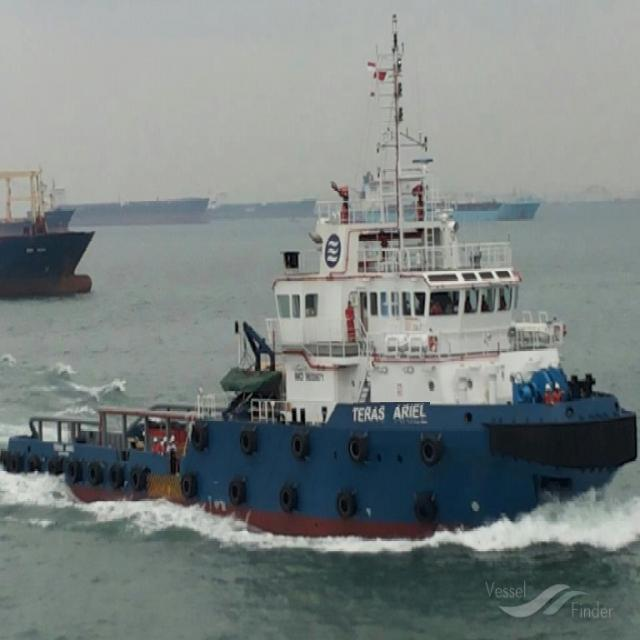OCR: (346, 402, 431, 428)
